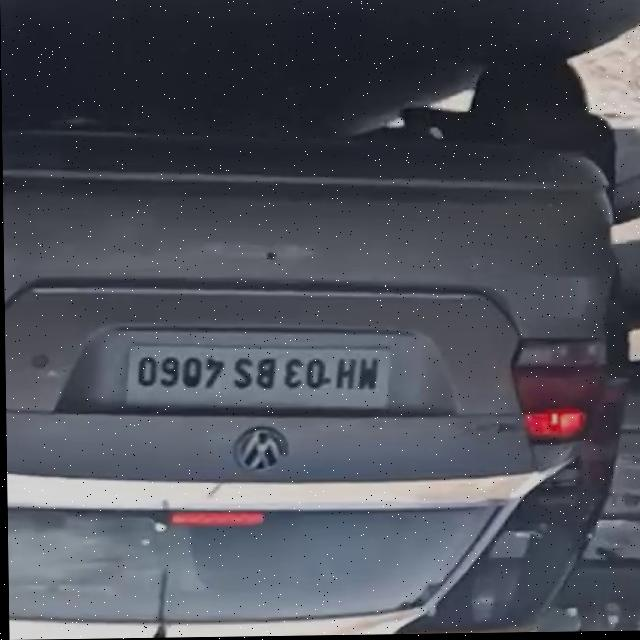plate: (121, 336, 387, 413)
